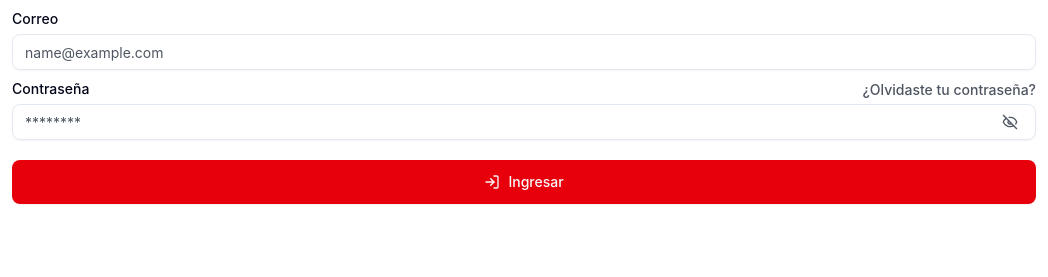
Test: UserAuthForm › Rendering without redirectTo › shows validation messages when submitting empty form
The image size is (1048, 277).
Click the button "Ingresar" at x=524, y=182, box x1=12 y1=160 x2=1036 y2=204
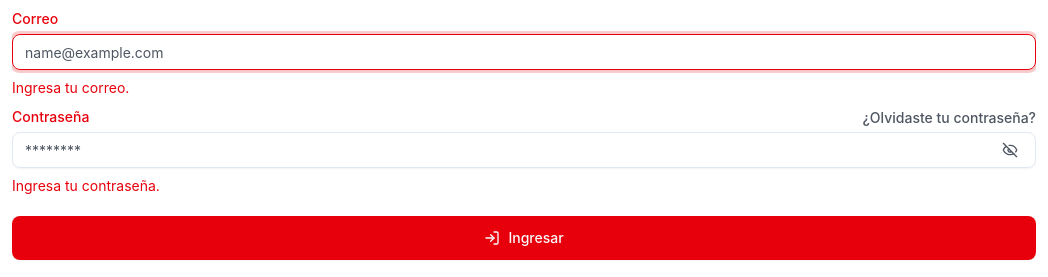
Expected: the text "Ingresa tu correo." is shown, x1=12 y1=79 x2=129 y2=96
